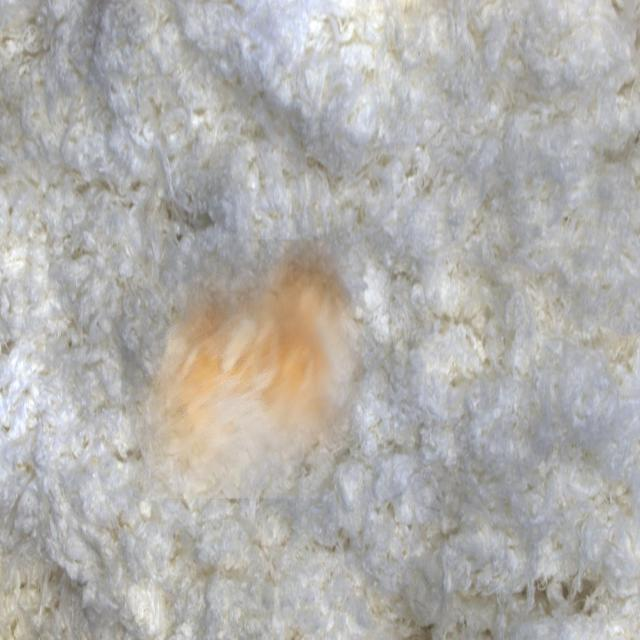dust: (122, 240, 365, 499)
